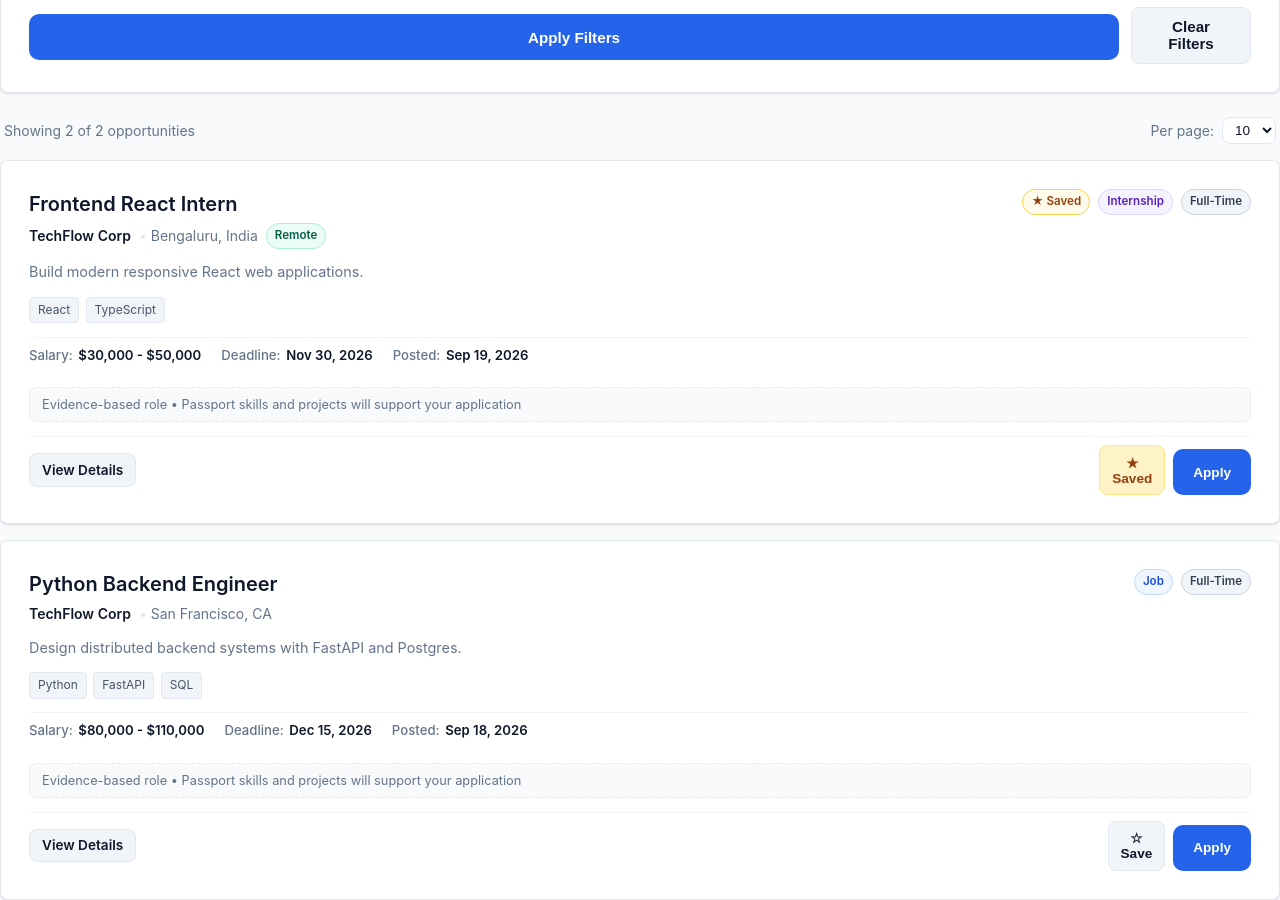
Test case: JobDiscoveryPage › allows student to unsave an already saved job
The width and height of the screenshot is (1280, 900).
(page scrolled)
Click the button with test id "save-btn-1".
click(1132, 470)  # box x1=1099 y1=445 x2=1165 y2=495
(page scrolled)
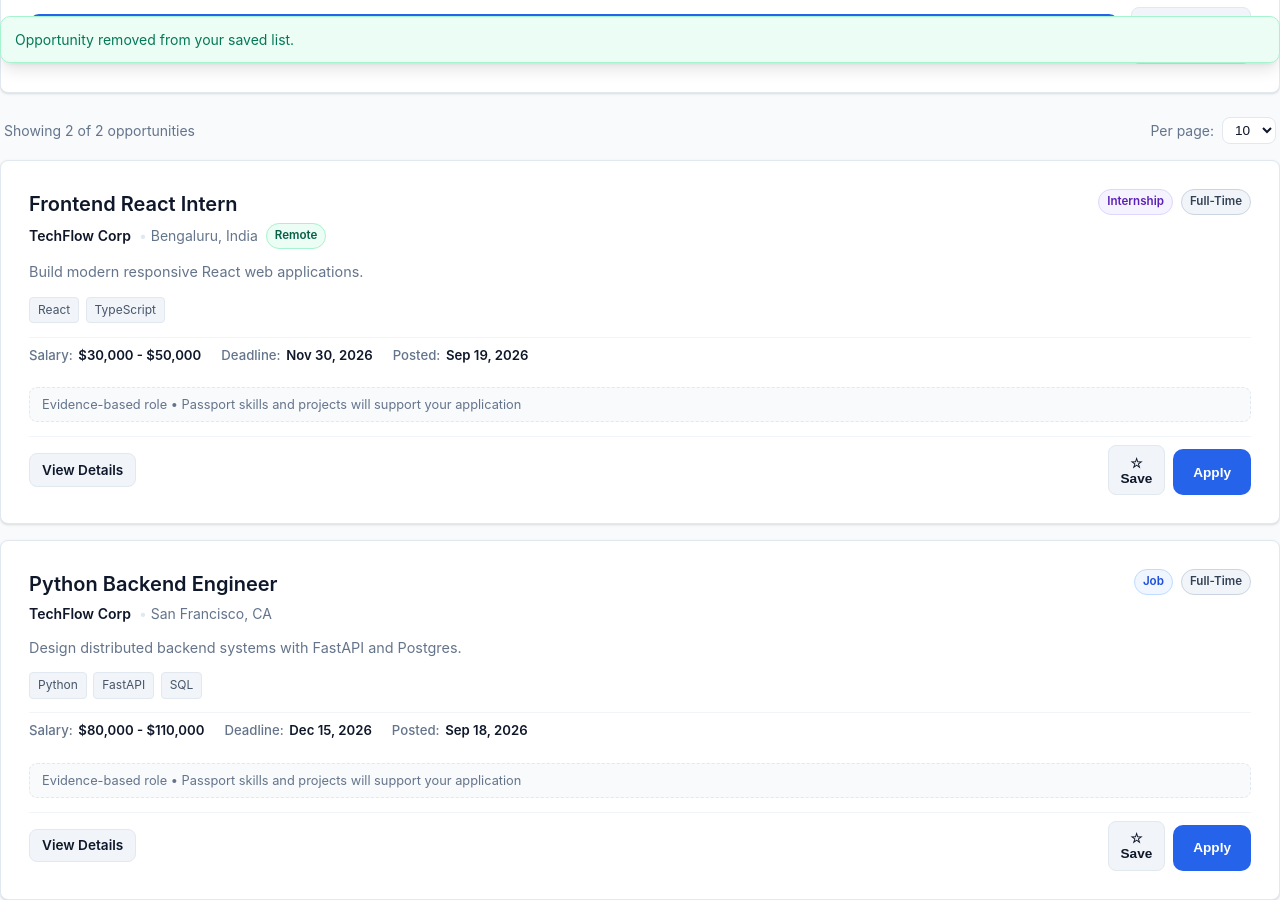
Expected: the button with test id "save-btn-1" reads "☆ Save", x1=1108 y1=445 x2=1165 y2=495
Expected: the message reads "Opportunity removed from your saved list.", x1=15 y1=31 x2=294 y2=48
